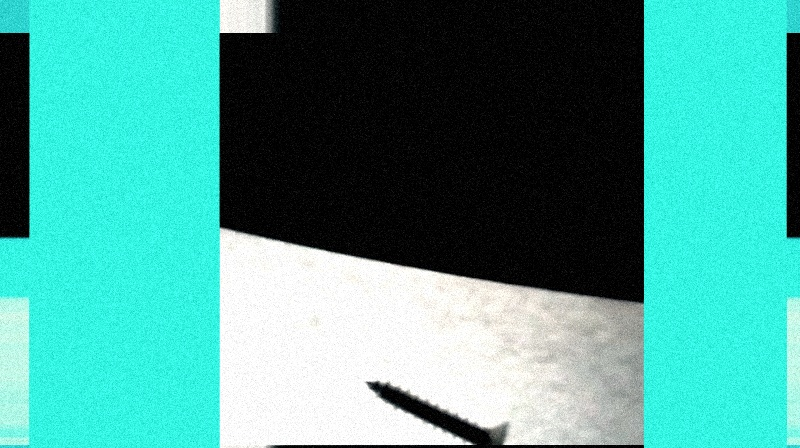S001: (360, 371, 514, 447)
